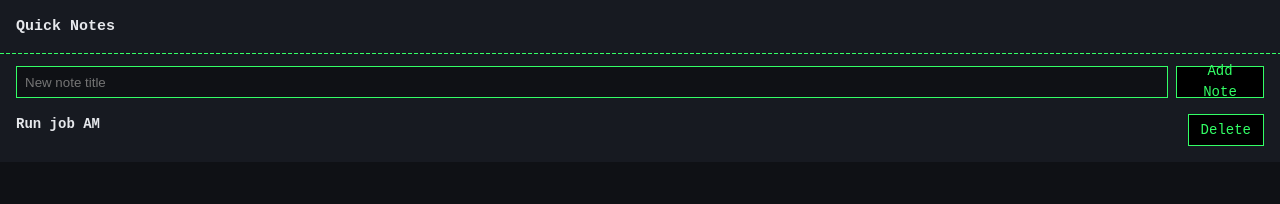
it: NotesBox › renders notes and expands description on click
This screenshot has width=1280, height=204.
expect the text "the ETL job" is not shown: met
Click the button "Run job AM" at (58,124), box [16,116,100,132]
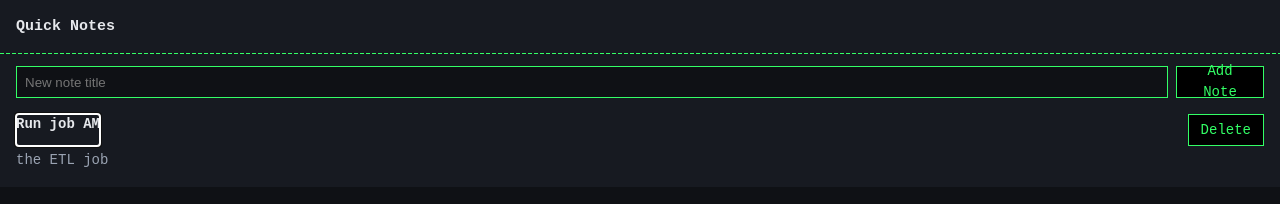
expect the text "the ETL job" is shown: met, box [16,152,108,168]
